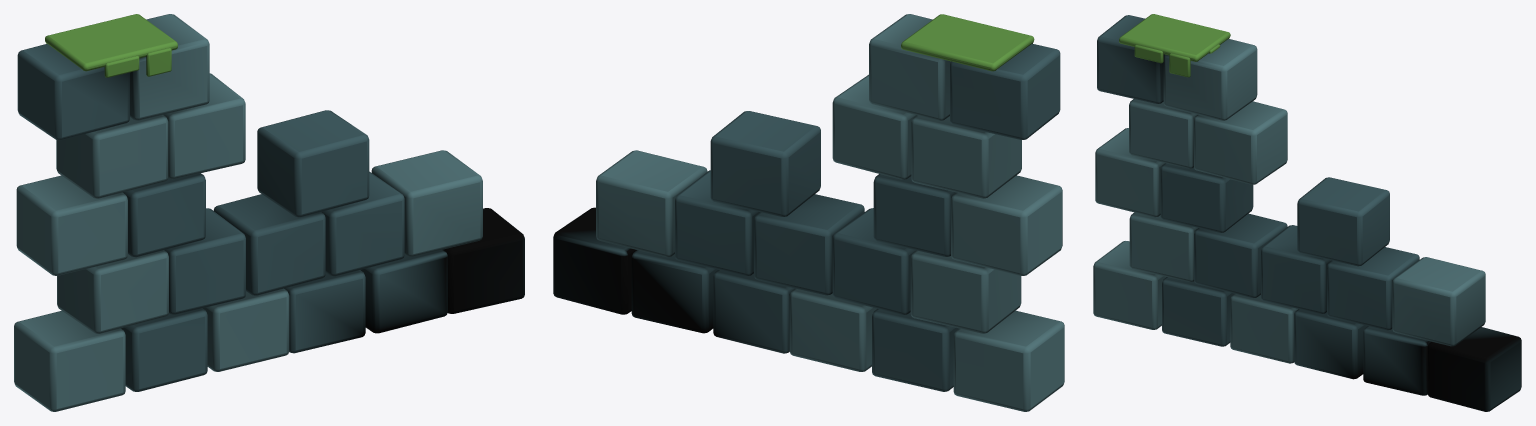
Rendered from ruin_wall.glb.
3 renders of one model, left to right at view 1: azimuth 30°, elevation 25°; view 2: azimuth 150°, elevation 25°; view 3: azimuth 330°, elevation 25°, orthographic. The views are drawn at different scales.
Parts seen in each view (by area): view 1: ruin_wall_mesh; view 2: ruin_wall_mesh; view 3: ruin_wall_mesh.
Boxes of the visible parts, box(x1,y1,x2,y2) form: ruin_wall_mesh: box(14, 14, 524, 411); ruin_wall_mesh: box(553, 14, 1064, 411); ruin_wall_mesh: box(1093, 14, 1521, 411).
Size of the model in its own units: 6.27 by 4.3 by 0.966.
